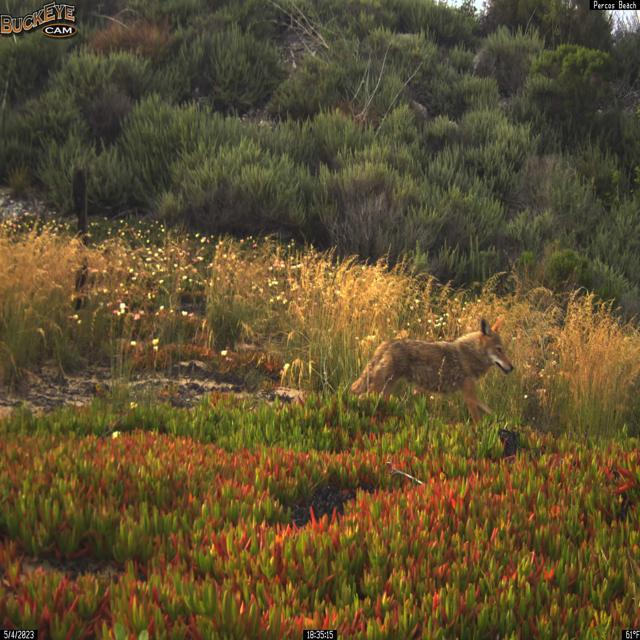coyote: (348, 314, 515, 427)
